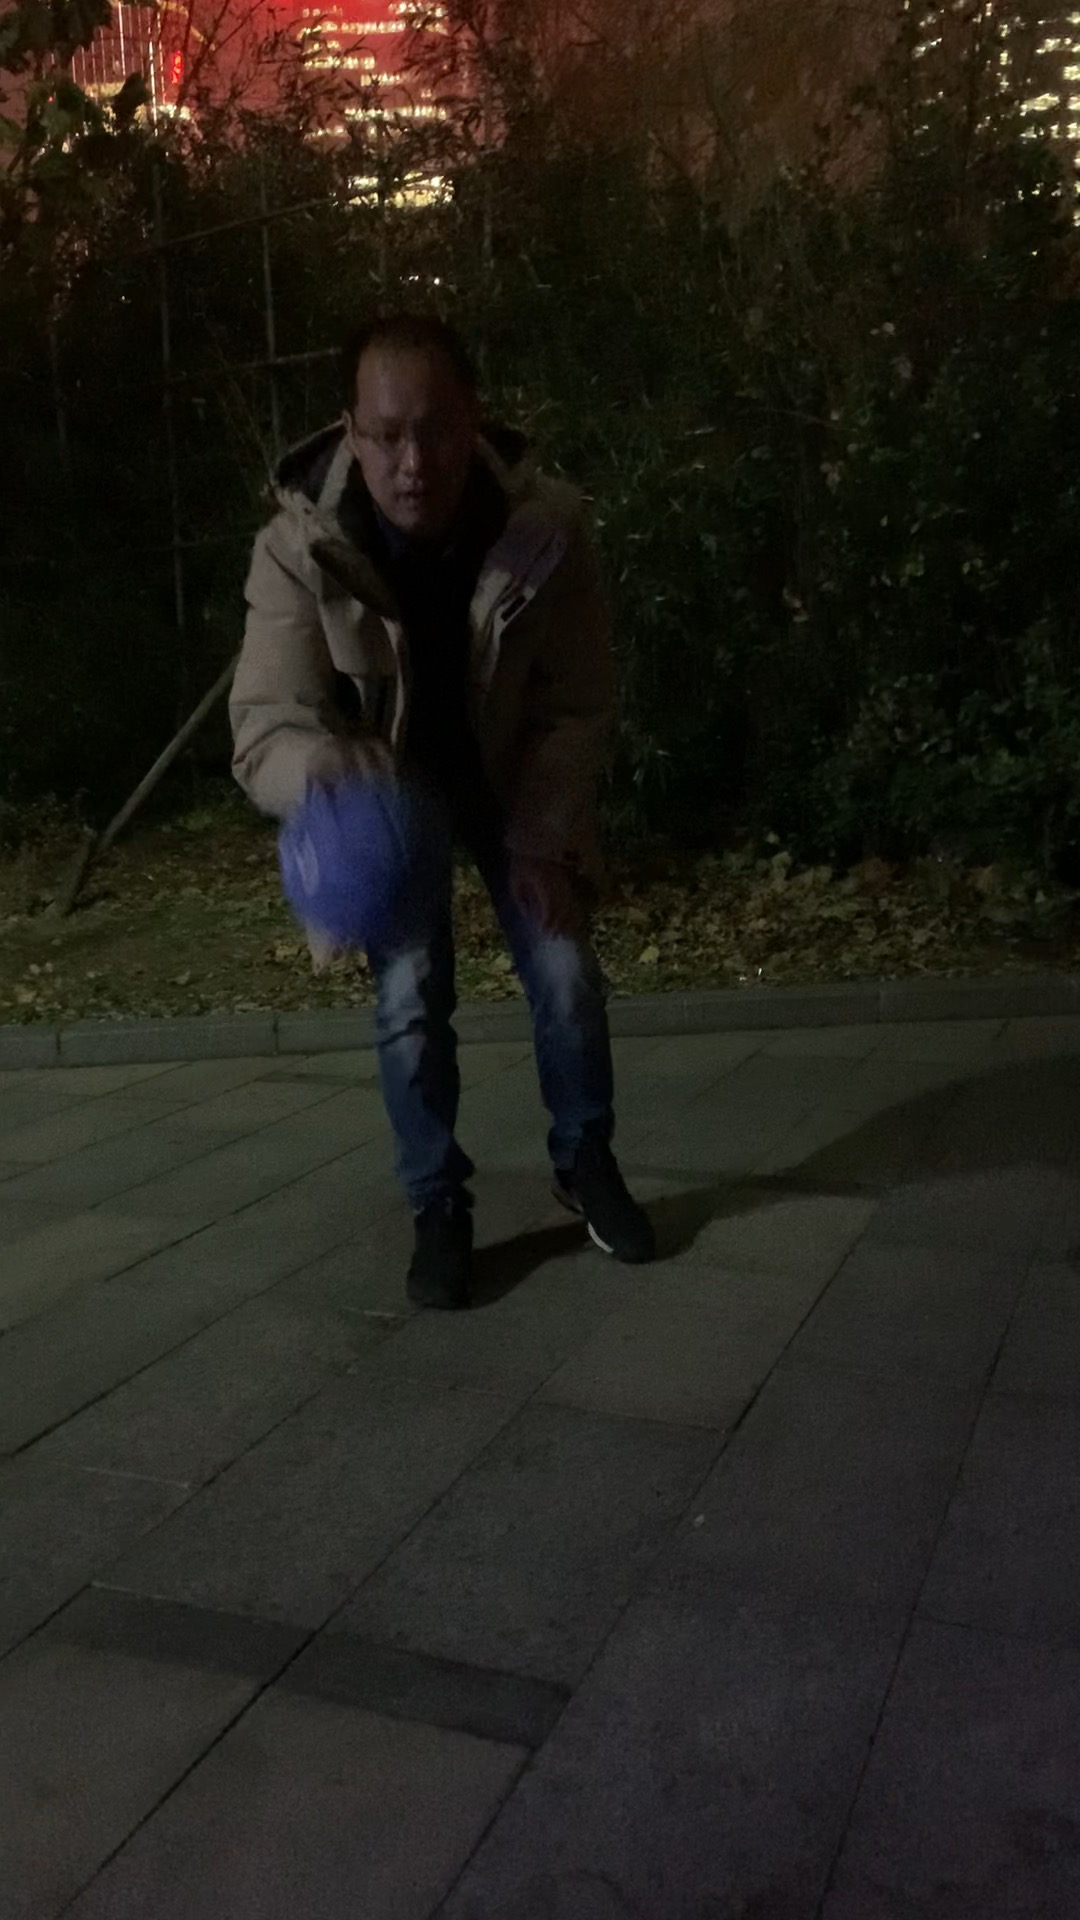ball: (276, 771, 452, 938)
